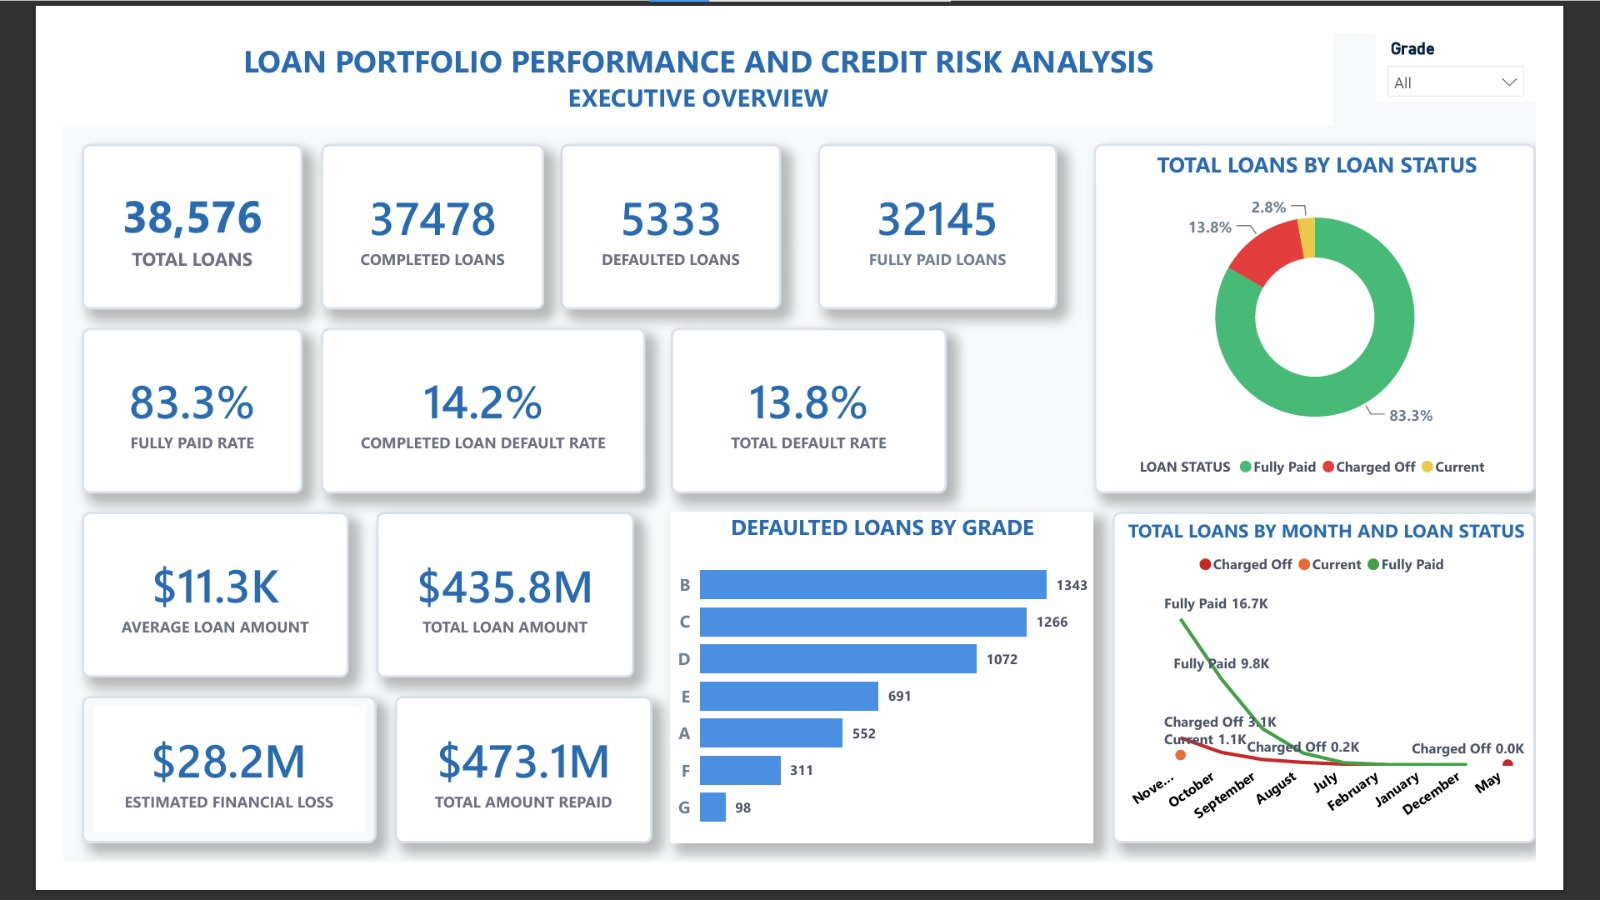

What the dashboard file says about the page in this screenshot:
{"tool":"powerbi","page":{"name":"Page 1","canvas":[1280,720],"ordinal":0},"visuals":[{"type":"cardVisual","fields":{"Data":["_MEASURES.TOTAL LOANS"]},"box":[16,96,192,144],"z":0},{"type":"cardVisual","fields":{"Data":["_MEASURES.TOTAL LOAN AMOUNT"]},"box":[272,416,224,144],"z":1000},{"type":"cardVisual","fields":{"Data":["_MEASURES.TOTAL AMOUNT REPAID"]},"box":[288,576,224,128],"z":2000},{"type":"cardVisual","fields":{"Data":["_MEASURES.DEFAULTED LOANS"]},"box":[432,96,192,144],"z":3000},{"type":"cardVisual","fields":{"Data":["_MEASURES.DEFAULT RATE"]},"box":[528,256,240,144],"z":4000},{"type":"cardVisual","fields":{"Data":["_MEASURES.FULLY PAID LOANS"]},"box":[656,96,208,144],"z":5000},{"type":"cardVisual","fields":{"Data":["_MEASURES.FULLY PAID RATE"]},"box":[16,256,192,144],"z":6000},{"type":"cardVisual","fields":{"Data":["_MEASURES.AVERAGE LOAN AMOUNT"]},"box":[16,416,232,144],"z":7000},{"type":"cardVisual","fields":{"Data":["_MEASURES.COMPLETED LOANS"]},"box":[224,96,194,144],"z":8000},{"type":"cardVisual","fields":{"Data":["_MEASURES.COMPLETED LOAN DEFAULT RATE"]},"box":[224,256,282,144],"z":9000},{"type":"cardVisual","fields":{"Data":["_MEASURES.ESTIMATED FINANCIAL LOSS"]},"box":[16,576,256,128],"z":10000},{"type":"donutChart","title":"TOTAL LOANS BY LOAN STATUS","fields":{"Category":["financial_loan_cleaned.loan_status"],"Y":["_MEASURES.TOTAL LOANS"]},"box":[896,96,384,304],"z":11000},{"type":"clusteredBarChart","title":"DEFAULTED LOANS BY GRADE","fields":{"Y":["_MEASURES.DEFAULTED LOANS"],"Category":["financial_loan_cleaned.grade"]},"box":[528,416,368,288],"z":12000},{"type":"lineChart","title":"TOTAL LOANS BY MONTH AND LOAN STATUS","fields":{"Category":["financial_loan_cleaned.Month Name"],"Series":["financial_loan_cleaned.loan_status"],"Y":["_MEASURES.TOTAL LOANS"]},"box":[912,416,368,288],"z":13000},{"type":"textbox","box":[0,0,925.5,79.6],"z":14000},{"type":"slicer","fields":{"Values":["financial_loan_cleaned.grade"]},"box":[1140.6,0,139.1,59.4],"z":15000},{"type":"slicer","fields":{"Values":["financial_loan_cleaned.loan_status"]},"box":[990.2,0,133.6,59.4],"z":16000}]}

Visuals, with their boxes in screenshot pixels (x1, y1, x2, y2), scaled from the page's 1280x720 canvas onto the 1600x900 screenshot:
cardVisual - _MEASURES.TOTAL LOANS: [x1=20, y1=120, x2=260, y2=300]
cardVisual - _MEASURES.TOTAL LOAN AMOUNT: [x1=340, y1=520, x2=620, y2=700]
cardVisual - _MEASURES.TOTAL AMOUNT REPAID: [x1=360, y1=720, x2=640, y2=880]
cardVisual - _MEASURES.DEFAULTED LOANS: [x1=540, y1=120, x2=780, y2=300]
cardVisual - _MEASURES.DEFAULT RATE: [x1=660, y1=320, x2=960, y2=500]
cardVisual - _MEASURES.FULLY PAID LOANS: [x1=820, y1=120, x2=1080, y2=300]
cardVisual - _MEASURES.FULLY PAID RATE: [x1=20, y1=320, x2=260, y2=500]
cardVisual - _MEASURES.AVERAGE LOAN AMOUNT: [x1=20, y1=520, x2=310, y2=700]
cardVisual - _MEASURES.COMPLETED LOANS: [x1=280, y1=120, x2=522, y2=300]
cardVisual - _MEASURES.COMPLETED LOAN DEFAULT RATE: [x1=280, y1=320, x2=632, y2=500]
cardVisual - _MEASURES.ESTIMATED FINANCIAL LOSS: [x1=20, y1=720, x2=340, y2=880]
"TOTAL LOANS BY LOAN STATUS" donutChart: [x1=1120, y1=120, x2=1599, y2=500]
"DEFAULTED LOANS BY GRADE" clusteredBarChart: [x1=660, y1=520, x2=1120, y2=880]
"TOTAL LOANS BY MONTH AND LOAN STATUS" lineChart: [x1=1140, y1=520, x2=1599, y2=880]
textbox: [x1=0, y1=0, x2=1157, y2=100]
slicer - financial_loan_cleaned.grade: [x1=1426, y1=0, x2=1599, y2=74]
slicer - financial_loan_cleaned.loan_status: [x1=1238, y1=0, x2=1405, y2=74]
